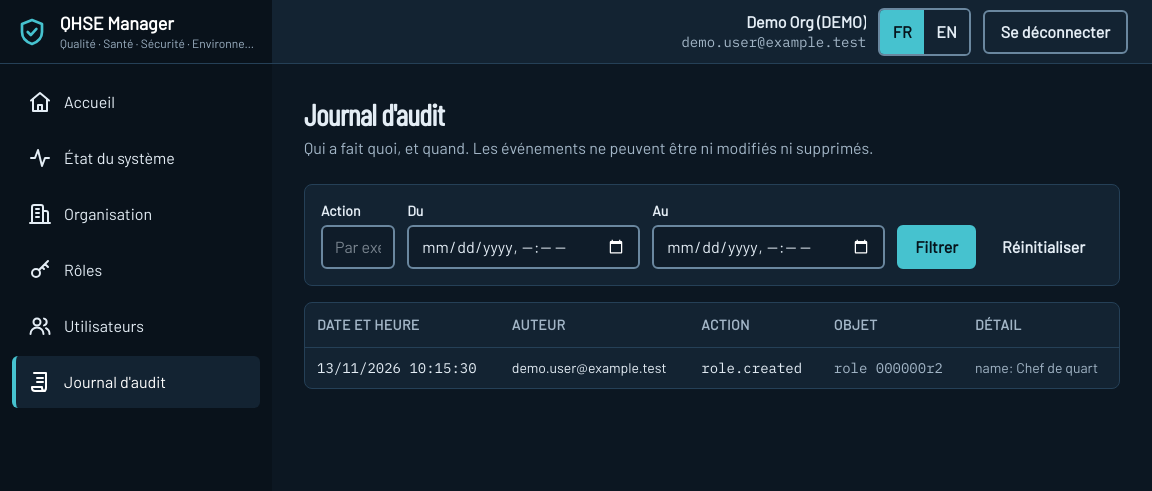
audit log › filters by action and shows an explicit empty state
The image size is (1152, 491).
Check: the table is shown, box [305,303,1119,388]
Step 1. Type "role.deleted" into the field labelled "Action" → (358, 247), box [321,225,395,269]
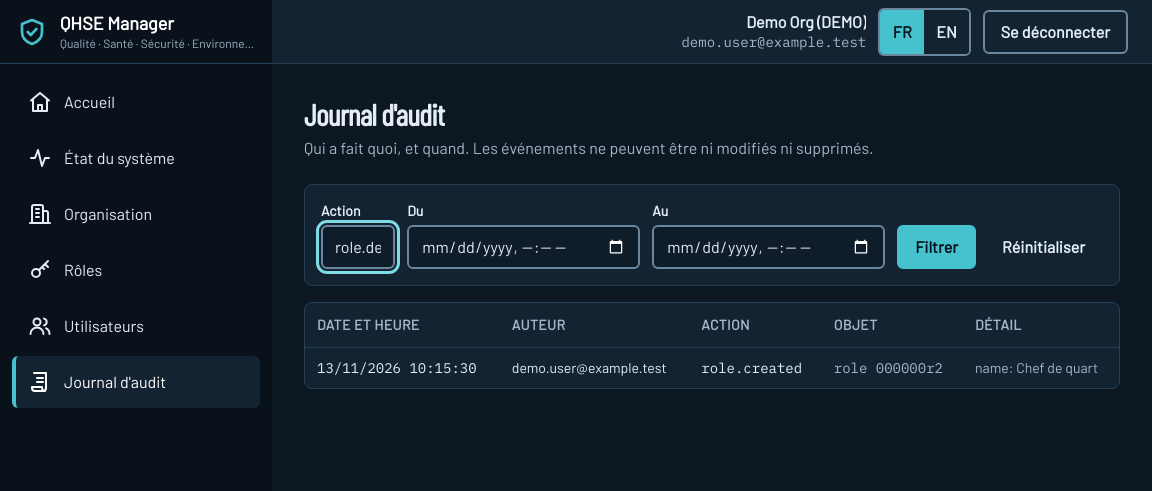
Step 2. Click the button "Filtrer" → click(937, 247), box [897,225,976,269]
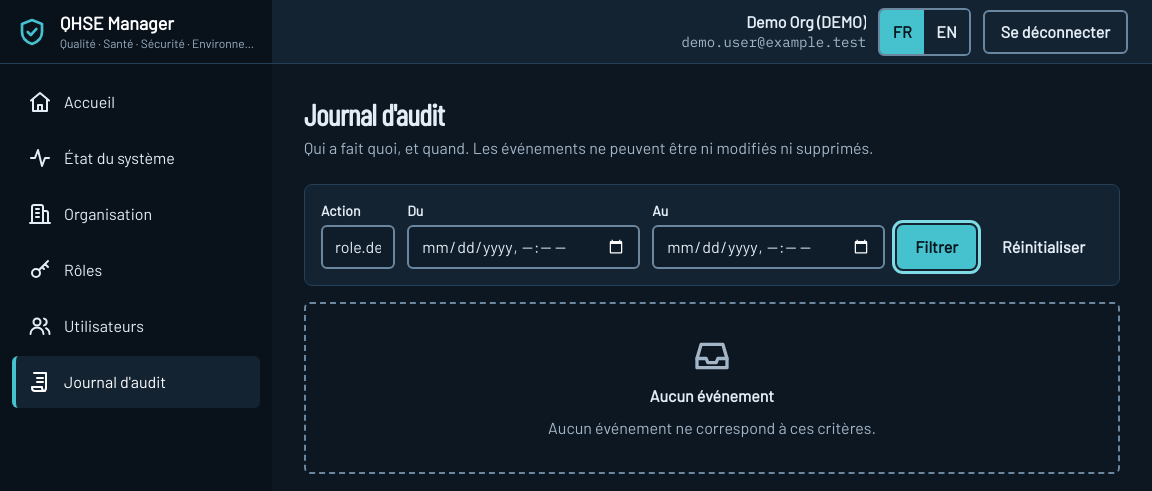
Check: the text "Aucun événement" is shown, box [650,384,774,408]
